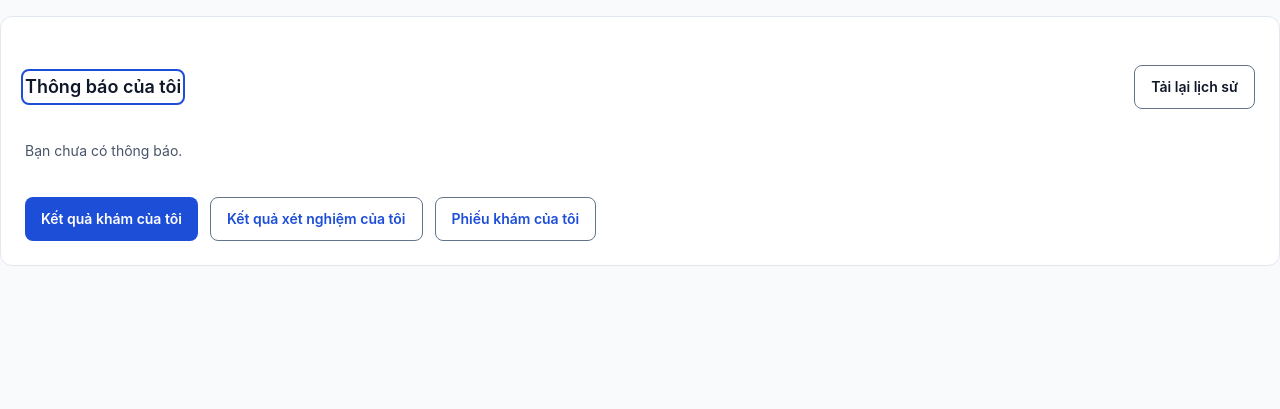
Test: Notification patient history › refreshes an empty personal inbox without requesting another patient's identity
expect the text "Bạn chưa có thông báo." is shown: met, box [25, 142, 182, 159]
Click the button "Tải lại lịch sử": (1195, 87) [1134, 65, 1255, 109]
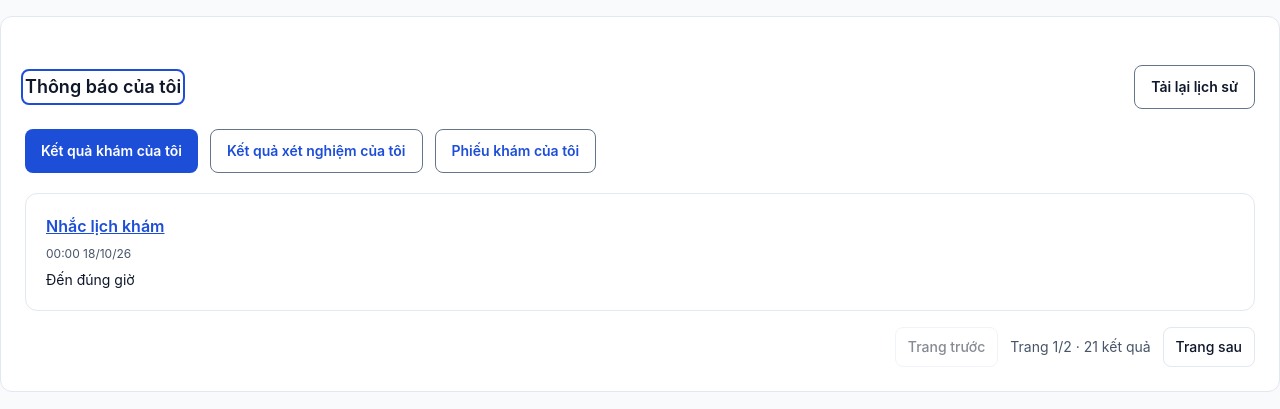
expect the link "Nhắc lịch khám" is shown: met, box [46, 216, 164, 236]
